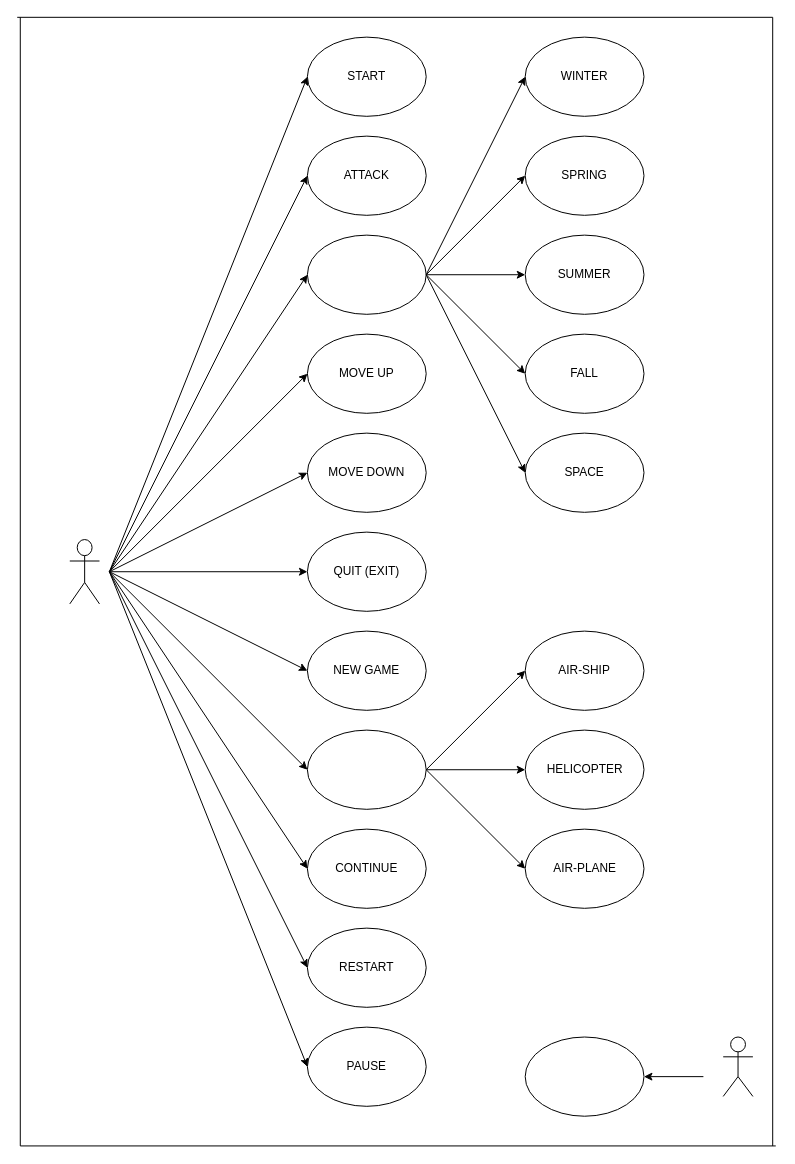
Image size: 795x1164. Some labels were removed from this diagram. The box of each missing label's shape, as (x1, y1, x2, y2) in pixels:
CPU: (722, 1036, 753, 1096)
PLAYER: (69, 539, 99, 604)
SELECT BACKGROUND: (306, 234, 426, 314)
SELECT USER: (306, 729, 426, 809)
TIME TICK: (524, 1036, 644, 1116)
